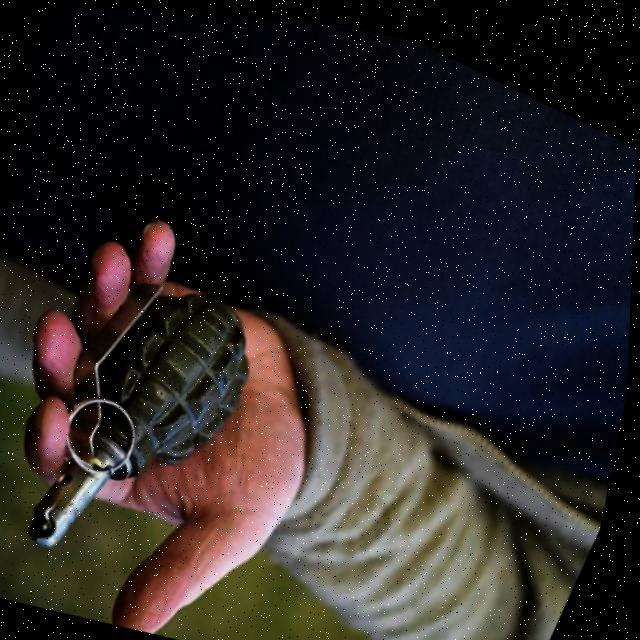grenade: (16, 226, 286, 616)
